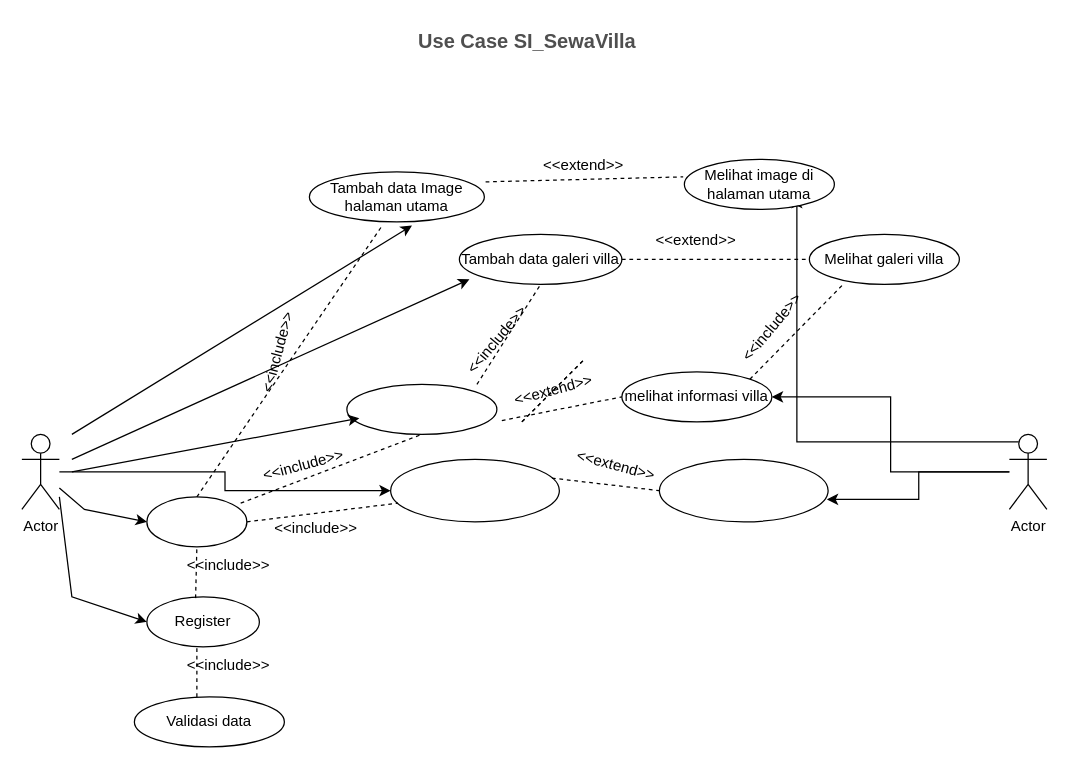
The diagram is 1069 pixels wide and 769 high, and some of its shapes have lost their labels. Each missing label, with the centre of its shape:
"Login" belongs at (x=196, y=521).
"Memgisi form contact us" belongs at (x=743, y=490).
"Mengecek data Contact Us yang masuk" belongs at (x=474, y=490).
"Tambah data villa" belongs at (x=421, y=408).
